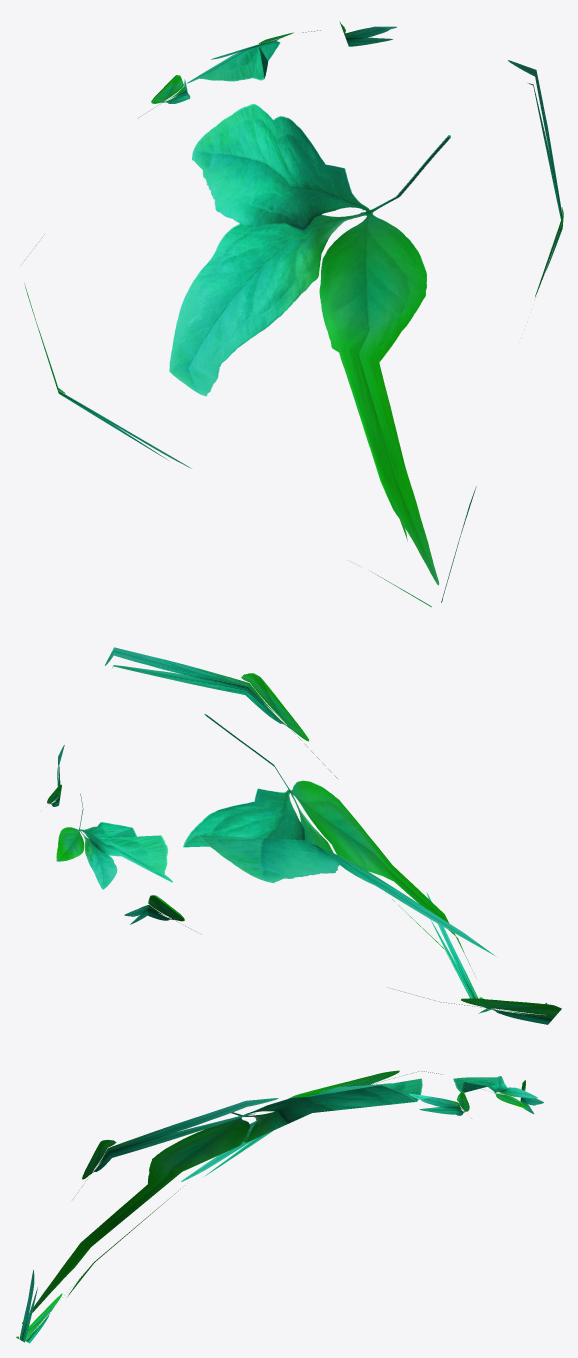
Rendered from single-leaf.fbx.
3 renders of one model, top to bottom at view 1: azimuth 30°, elevation 25°; view 2: azimuth 150°, elevation 25°; view 3: azimuth 270°, elevation 25°, orthographic. The views are drawn at different scales.
Parts seen in each view (by area): view 1: S094-253; view 2: S094-253; view 3: S094-253.
Boxes of the visible parts, <box> form: S094-253: <box>21,21,563,607</box>; S094-253: <box>47,647,561,1024</box>; S094-253: <box>16,1070,543,1343</box>.
Size of the model in its own units: 43.58 by 36.36 by 51.97.
